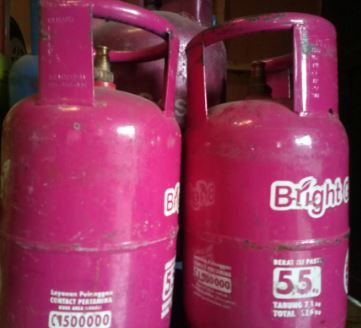bright_gas: (1, 1, 180, 328), (185, 13, 351, 328)
